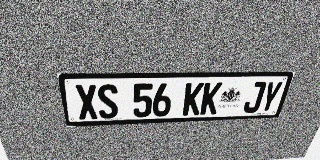5: (133, 83, 153, 117)
6: (152, 83, 173, 117)
J: (242, 81, 267, 113)
K: (200, 82, 223, 115), (182, 83, 204, 115)
S: (96, 84, 119, 119)
X: (74, 84, 99, 120)
Y: (258, 81, 284, 112)
